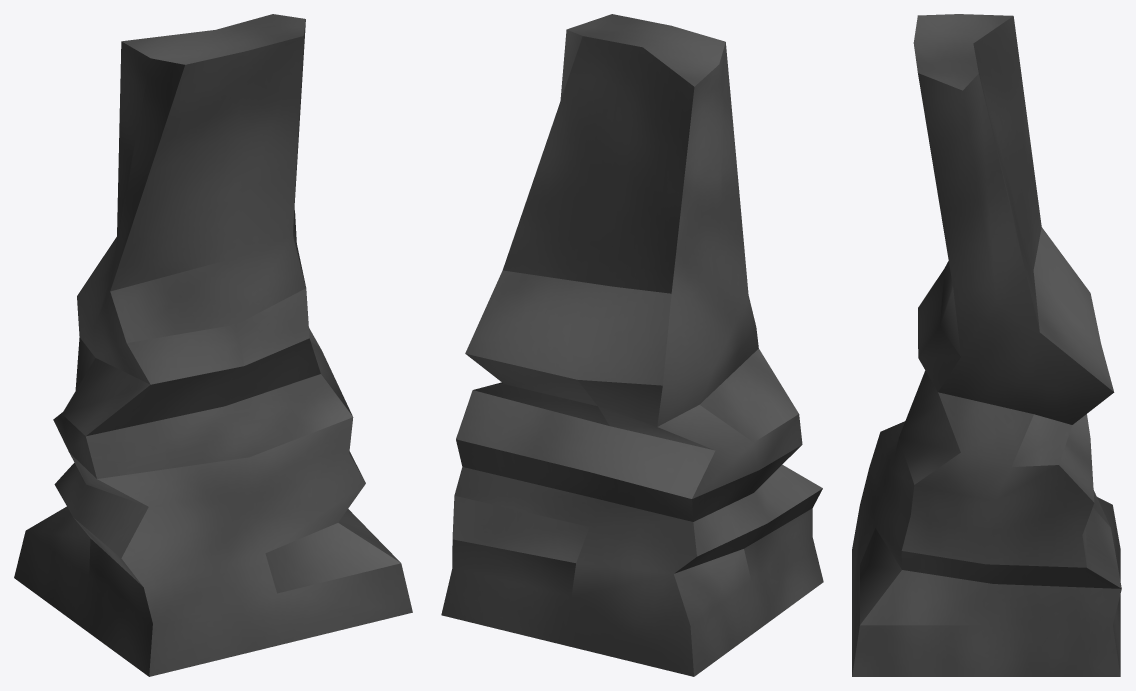
The model's file is GAMEJAMPUFFER - LongStone 1.fbx.
The picture shows the model from 3 angles, left to right: view 1: azimuth 30°, elevation 25°; view 2: azimuth 150°, elevation 25°; view 3: azimuth 270°, elevation 25°; orthographic projection. The views are drawn at different scales.
Parts seen in each view (by area): view 1: Cube; view 2: Cube; view 3: Cube.
Part boxes in pixels (bbox=[...]): Cube: bbox=[14, 14, 412, 676]; Cube: bbox=[441, 14, 823, 676]; Cube: bbox=[852, 14, 1121, 676].
Size of the model in its own units: 157 by 300 by 129.
1 material, 1 textured.
